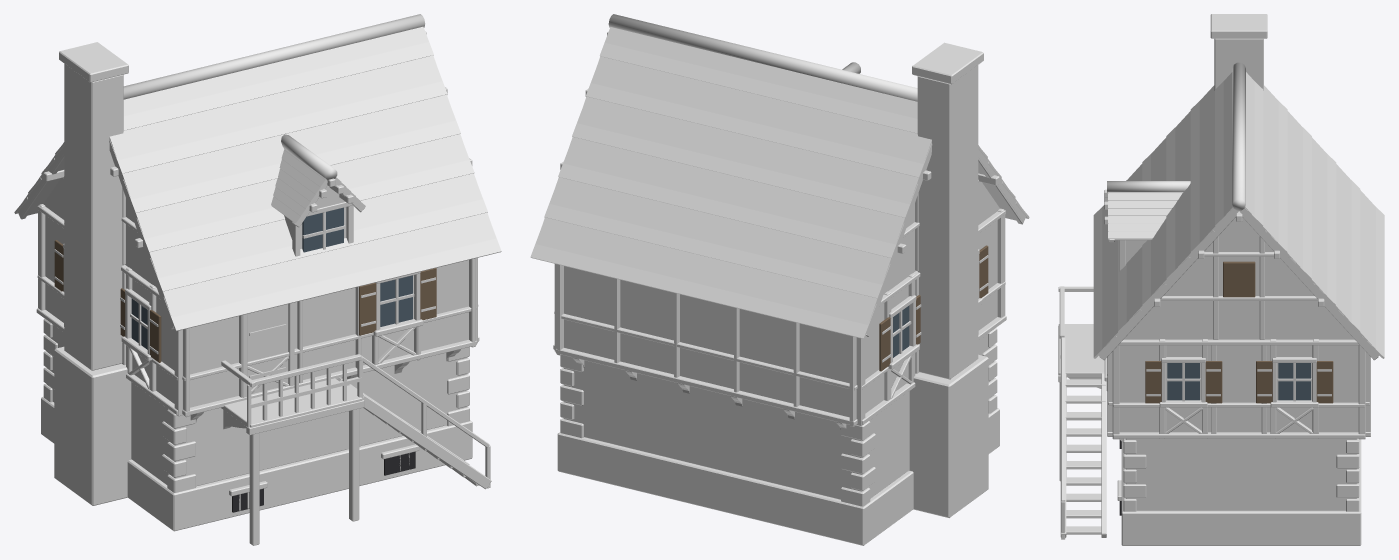
File: ville_22_gouttereau_balcon_escalier.fbx
The picture shows the model from 3 angles, left to right: view 1: azimuth 30°, elevation 25°; view 2: azimuth 150°, elevation 25°; view 3: azimuth 270°, elevation 25°; orthographic projection. The views are drawn at different scales.
Visible parts, largest first — view 1: ville_22_gouttereau_balcon_escalier_LOD0; view 2: ville_22_gouttereau_balcon_escalier_LOD0; view 3: ville_22_gouttereau_balcon_escalier_LOD0.
Part boxes in pixels (box(x1,y1,x2,y2)): ville_22_gouttereau_balcon_escalier_LOD0: box(14, 14, 501, 545); ville_22_gouttereau_balcon_escalier_LOD0: box(530, 14, 1029, 545); ville_22_gouttereau_balcon_escalier_LOD0: box(1058, 14, 1384, 545).
Size of what is drawn, in the model's own units: 8.21 by 9.58 by 7.33.
